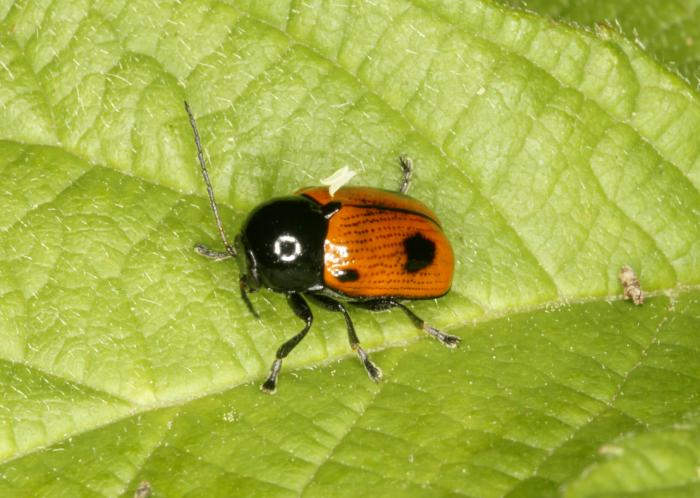Cryptocephalus_bipunctatus: (177, 93, 473, 392)
